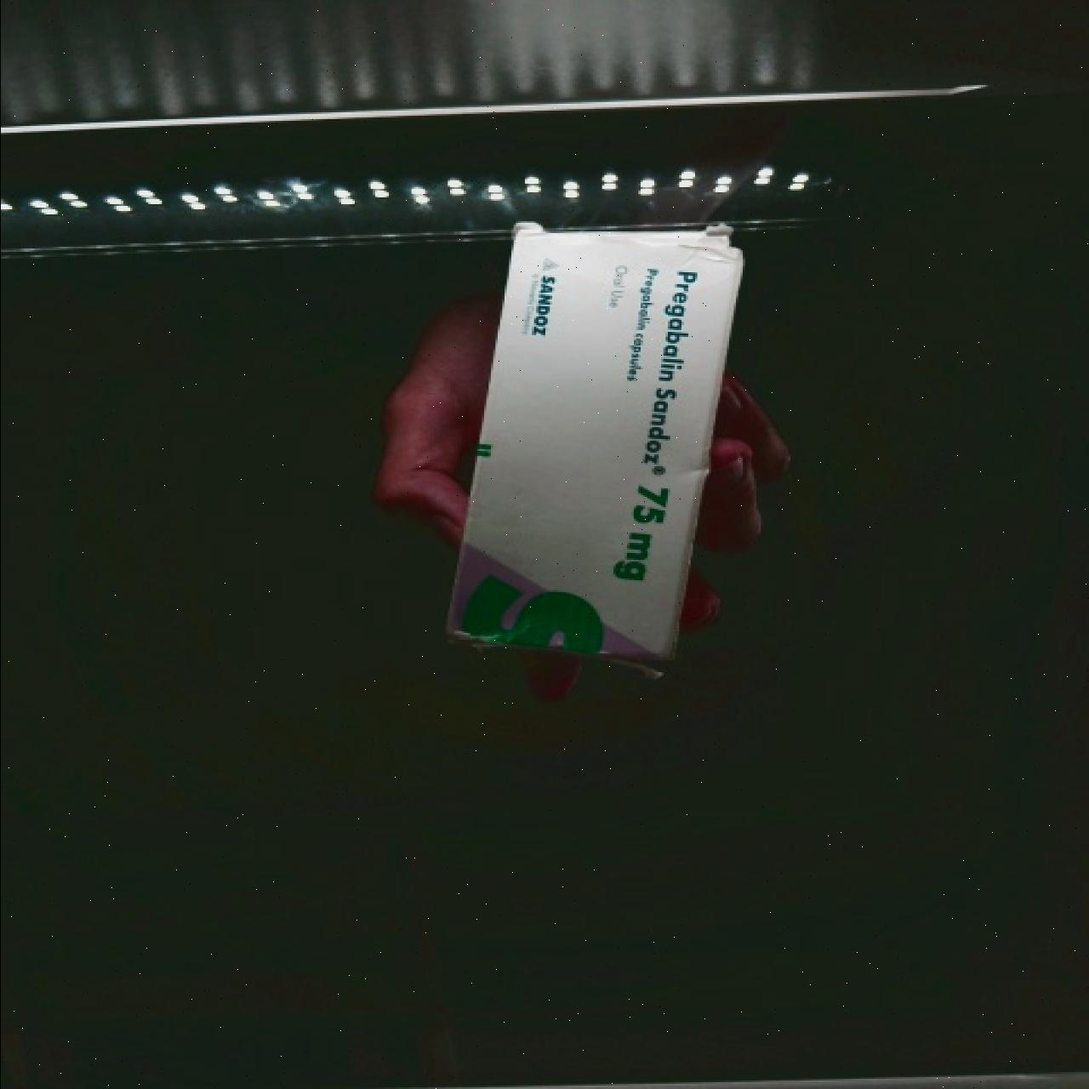medicine_label_obb: (624, 246, 722, 486)
